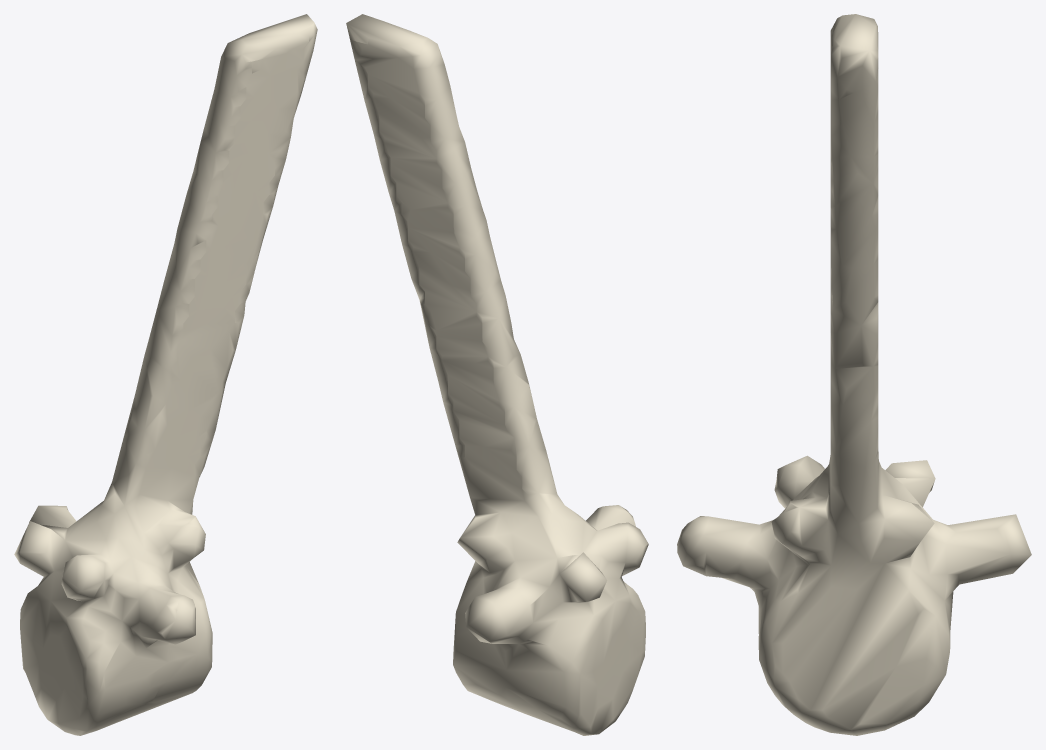
File: thoracic_3.glb
The picture shows the model from 3 angles, left to right: view 1: azimuth 30°, elevation 25°; view 2: azimuth 150°, elevation 25°; view 3: azimuth 270°, elevation 25°; orthographic projection. The views are drawn at different scales.
Visible parts, largest first — view 1: geometry_0; view 2: geometry_0; view 3: geometry_0.
Part boxes in pixels (<box>): geometry_0: <box>14,14,317,735</box>; geometry_0: <box>346,14,648,735</box>; geometry_0: <box>677,14,1031,735</box>.
Size of the model in its own units: 0.1916 by 0.4366 by 0.1779.
